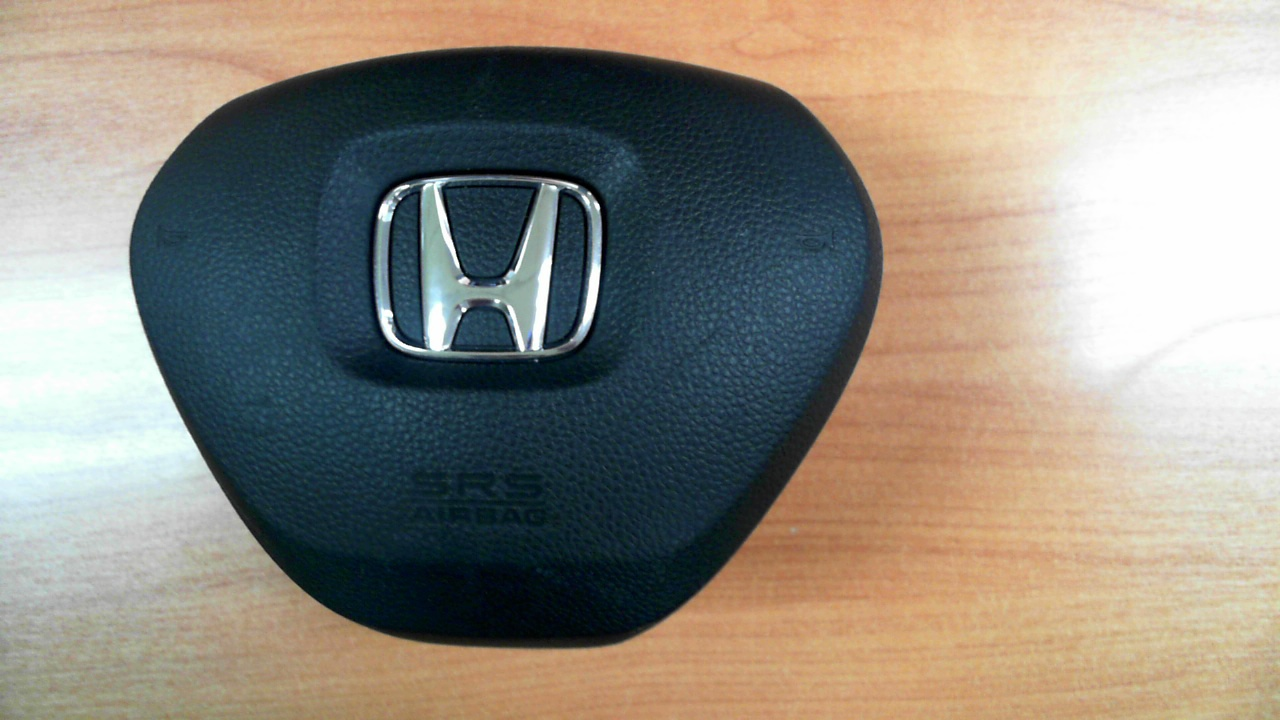Airbag: (127, 47, 884, 650)
Honda: (372, 174, 603, 363)
